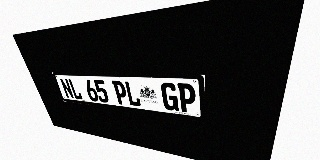5: (93, 80, 110, 103)
6: (83, 79, 99, 102)
G: (160, 82, 179, 111)
L: (124, 81, 141, 107), (67, 79, 83, 100)
N: (59, 78, 75, 99)
P: (177, 83, 196, 113), (112, 80, 129, 105)
